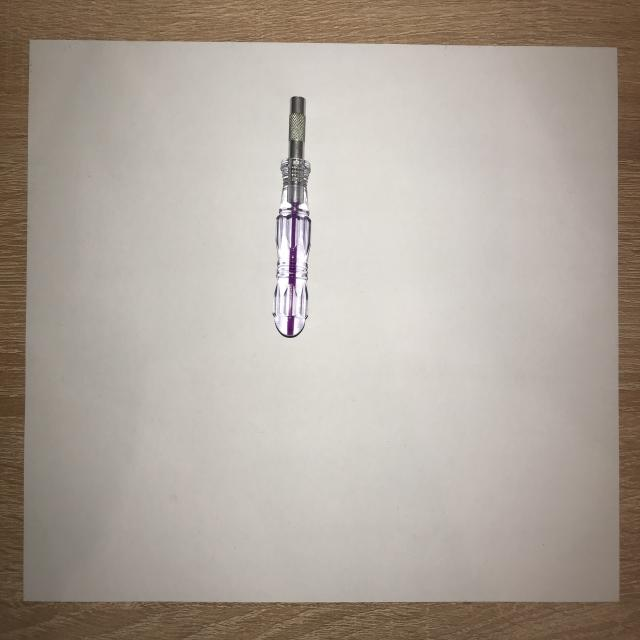screwdriver: (272, 85, 316, 348)
